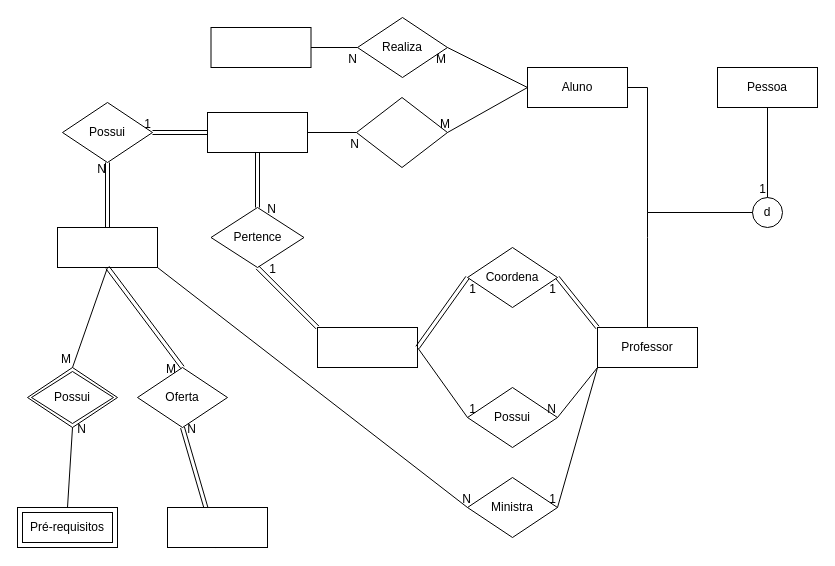
This 835x566 diagram has some shape labels left out. The shapes that lost their labels are listed below. From the top down, each one's centre as x and y in pixels, then its label:
point (260, 47): Extensão
point (257, 132): Curso
point (402, 132): Matriculado
point (107, 247): Disciplina
point (367, 347): Departamento
point (217, 527): Período
